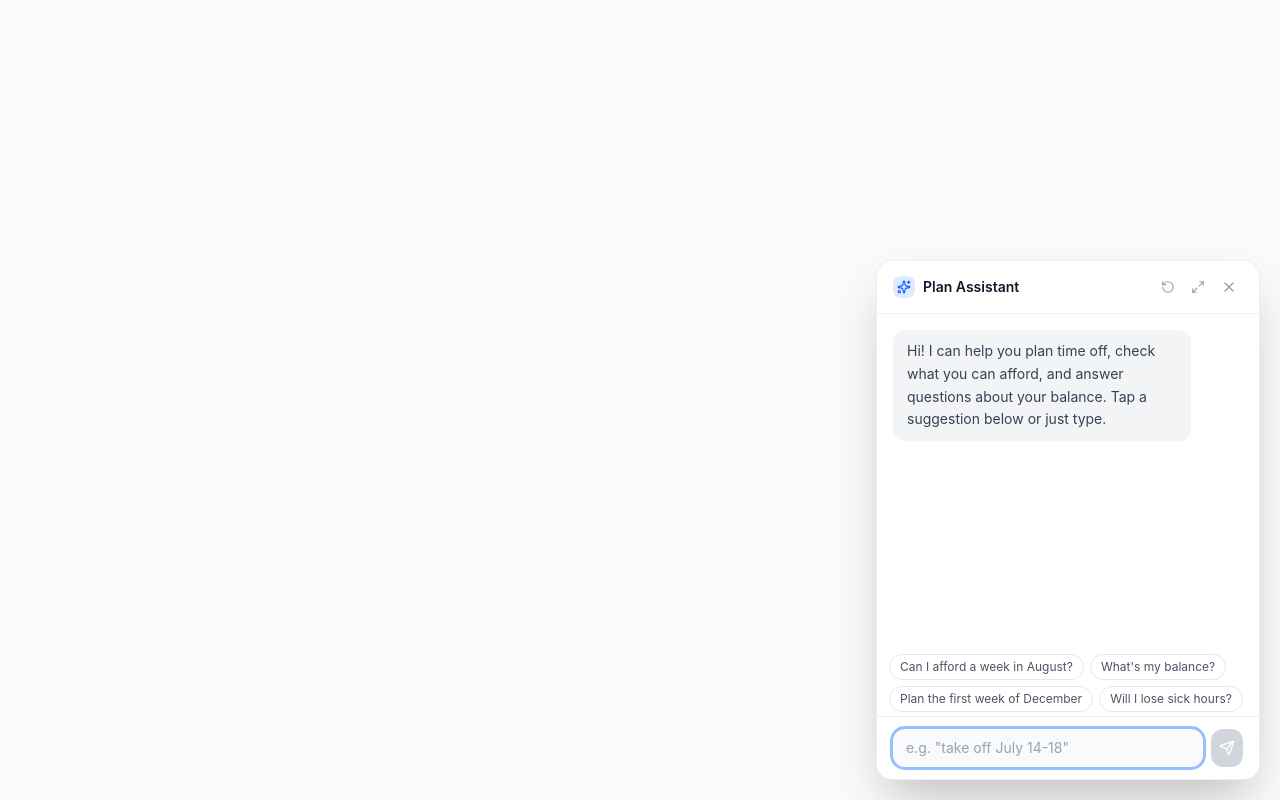
Scenario: ChatAssistant interrupted and repeated flows › keeps new balance and today questions independent of the previous date range
Type "plan tomorrow" into the field.
click(1048, 748); type("plan tomorrow")  # box [893,729,1203,767]
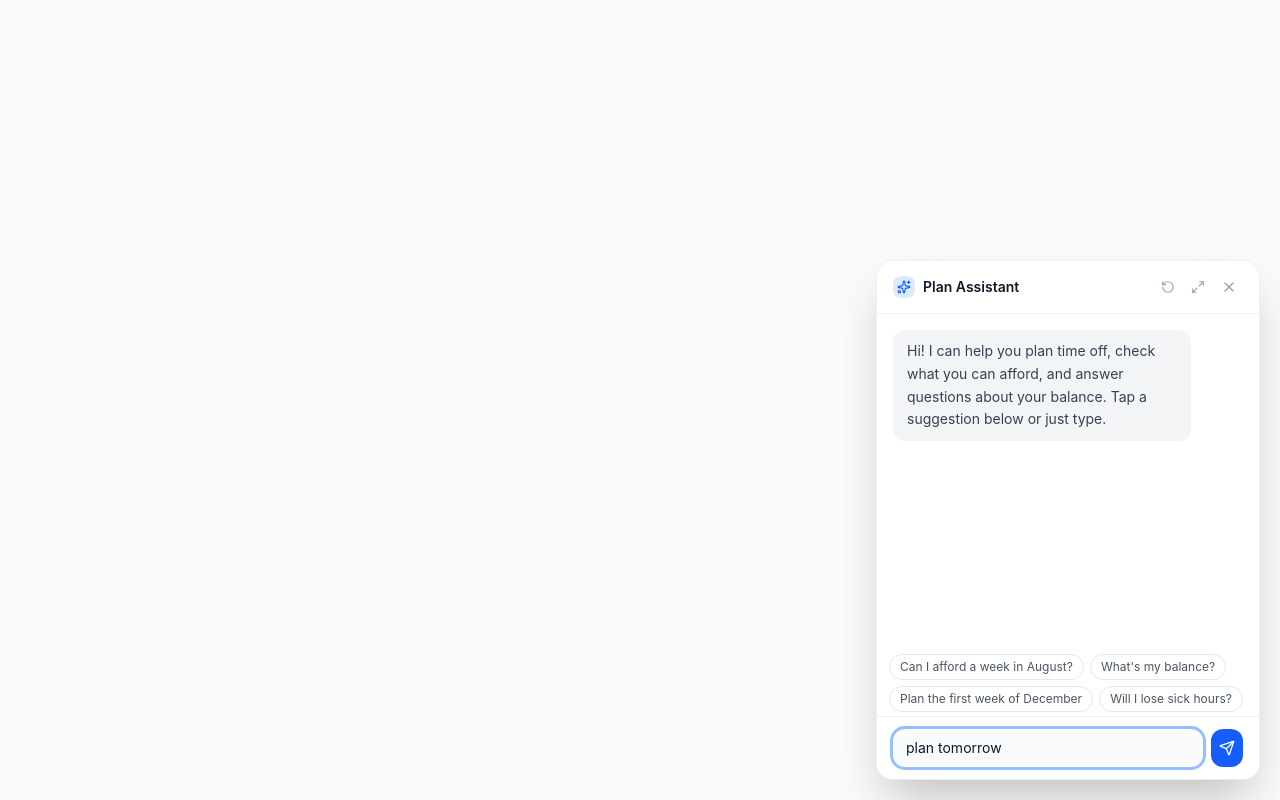
Click the button named "Send message".
click(1227, 748)  # box [1211,729,1243,767]
Wait 500 ms
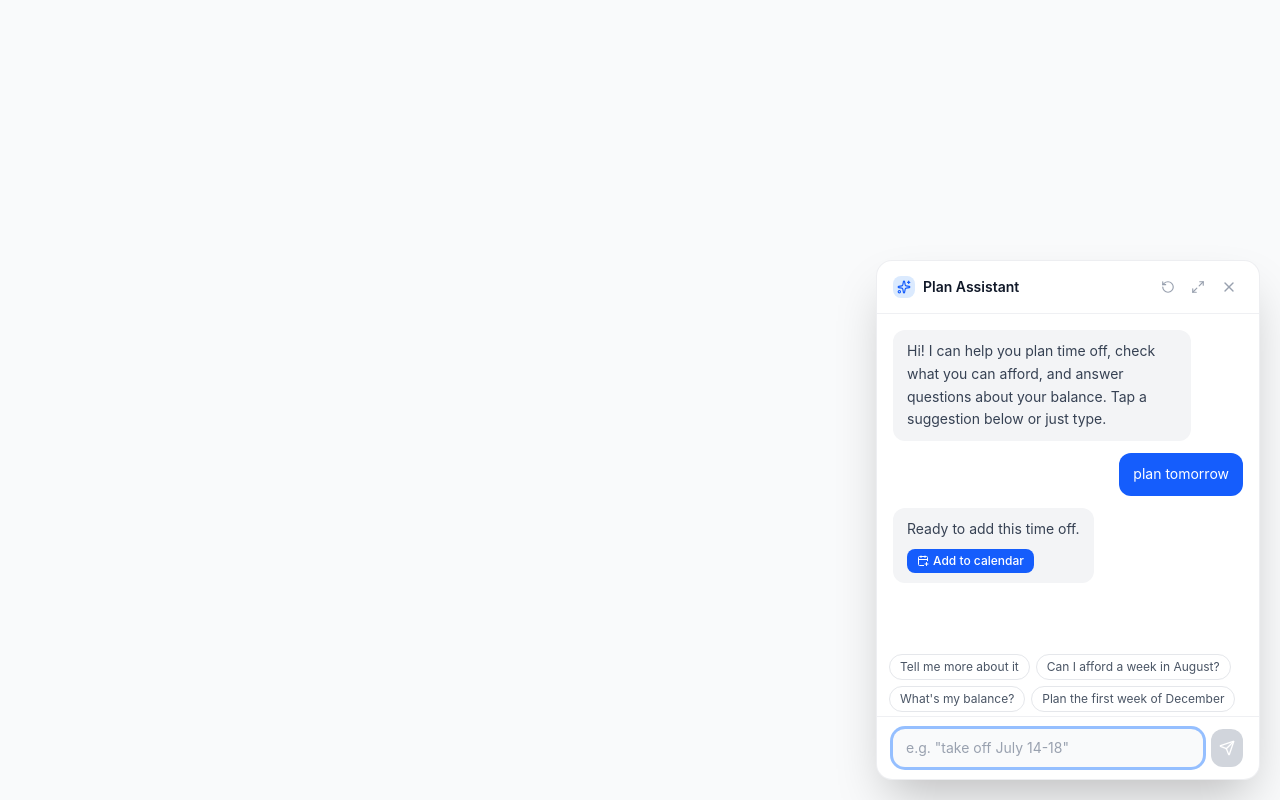
Type "How many hours do I have?" into the field.
click(1048, 748); type("How many hours do I have?")  # box [893,729,1203,767]
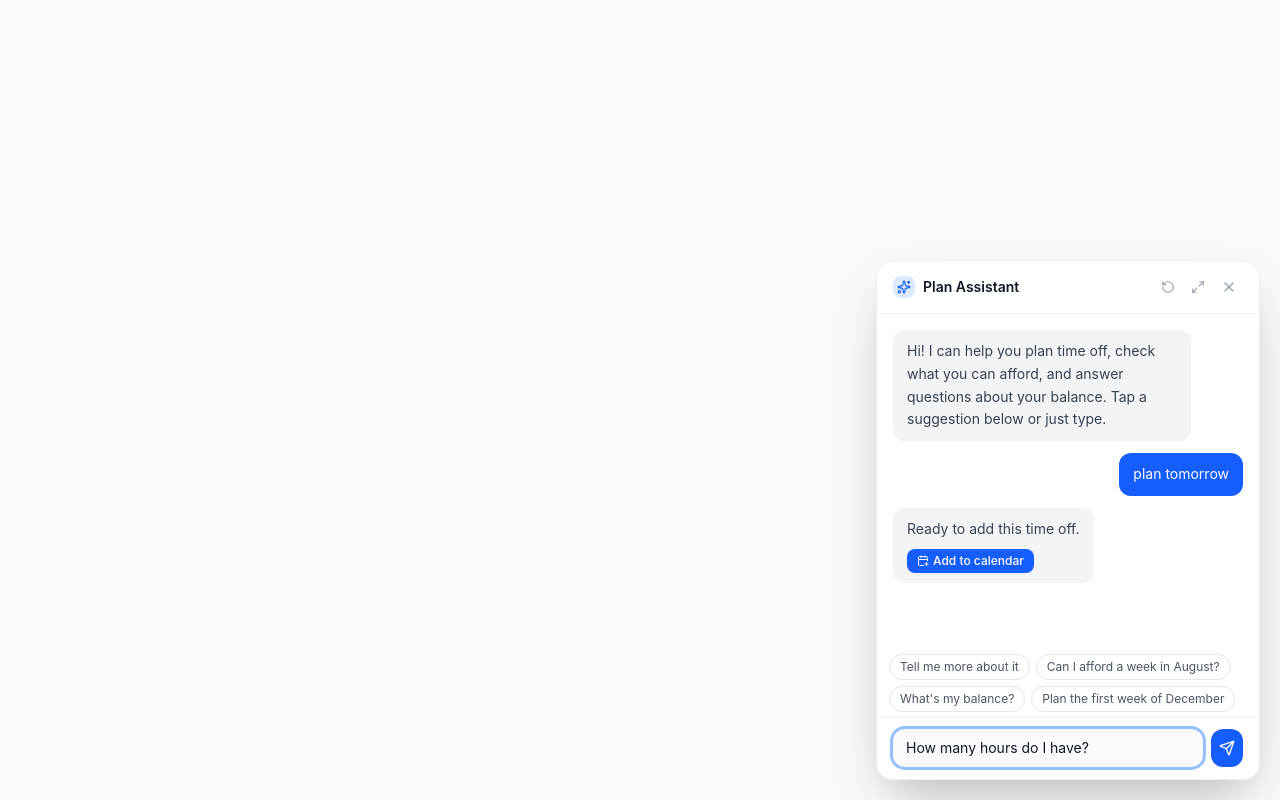
Click the button named "Send message".
click(1227, 748)  # box [1211,729,1243,767]
Wait 500 ms
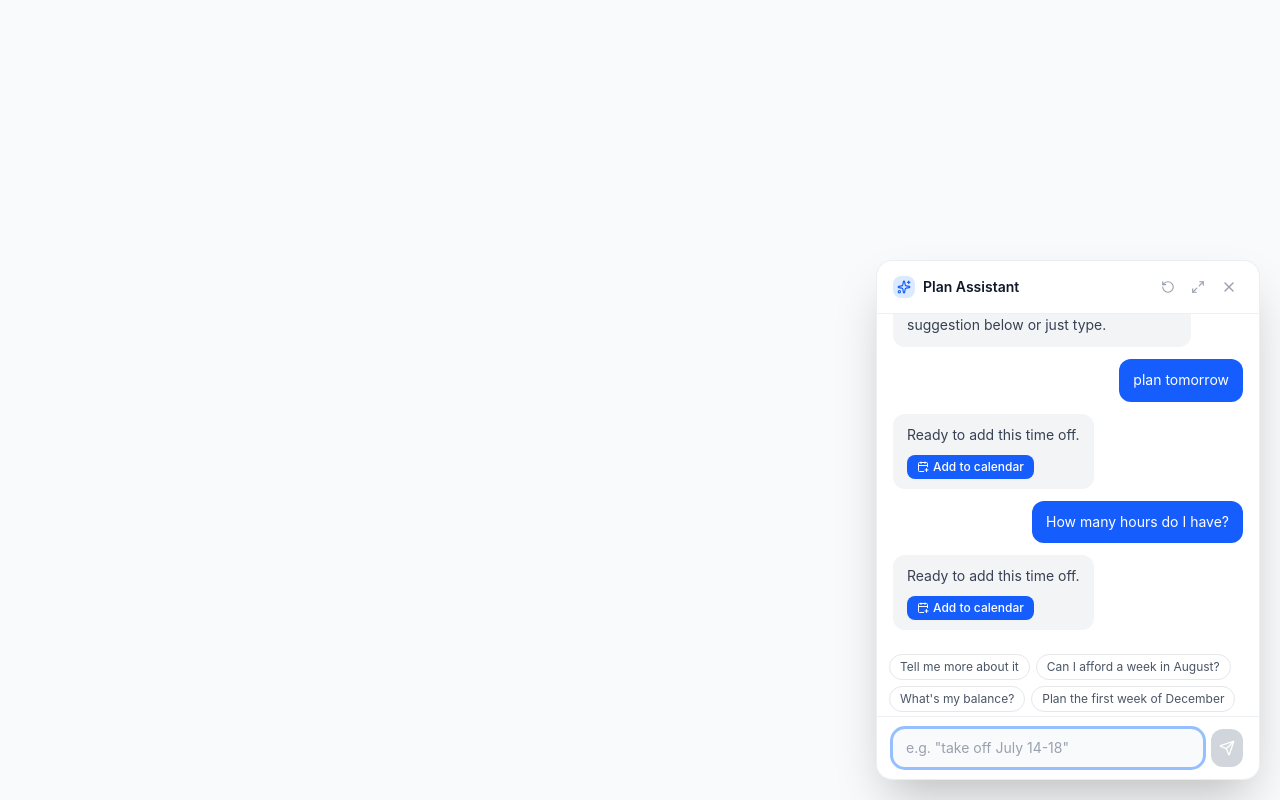
Check: the text "How many hours do I have?" is shown, box [1046,512,1229,530]
Type "How about today?" into the field.
click(1048, 748); type("How about today?")  # box [893,729,1203,767]
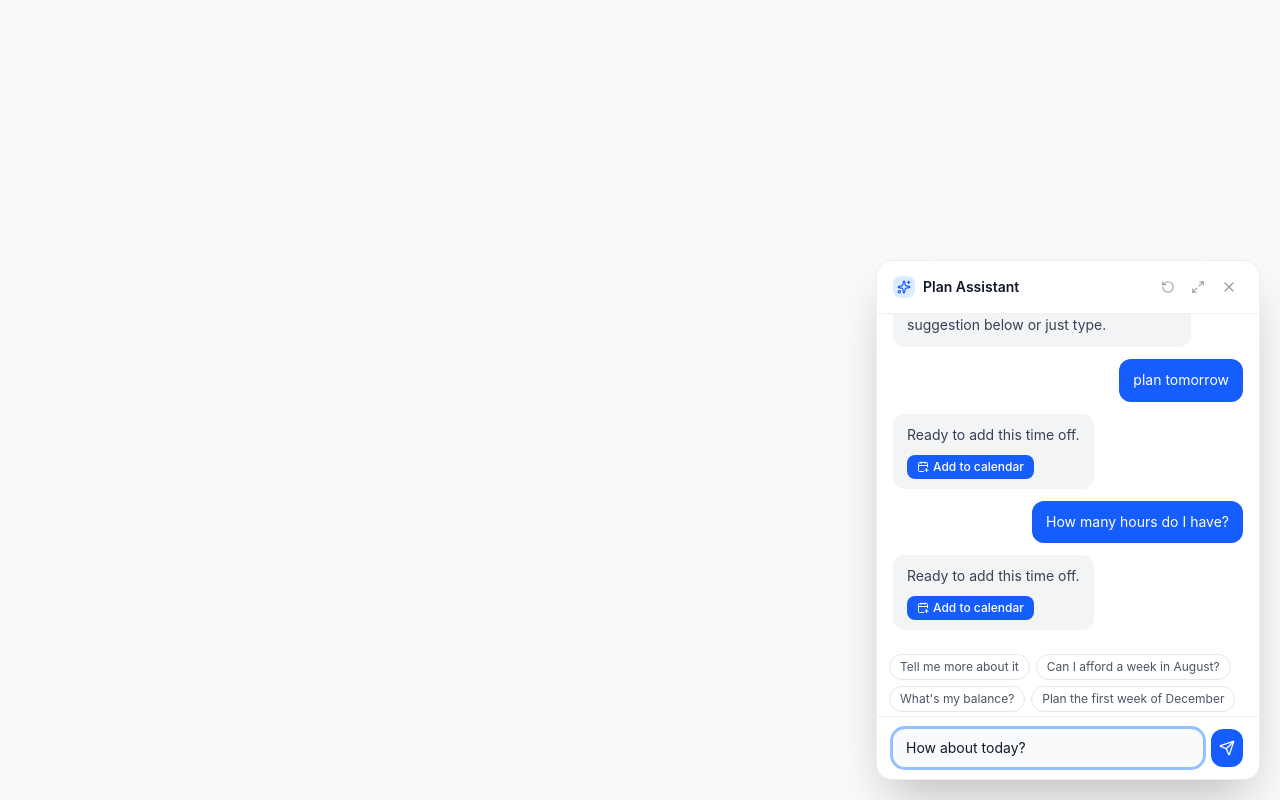
Click the button named "Send message".
click(1227, 748)  # box [1211,729,1243,767]
Wait 500 ms
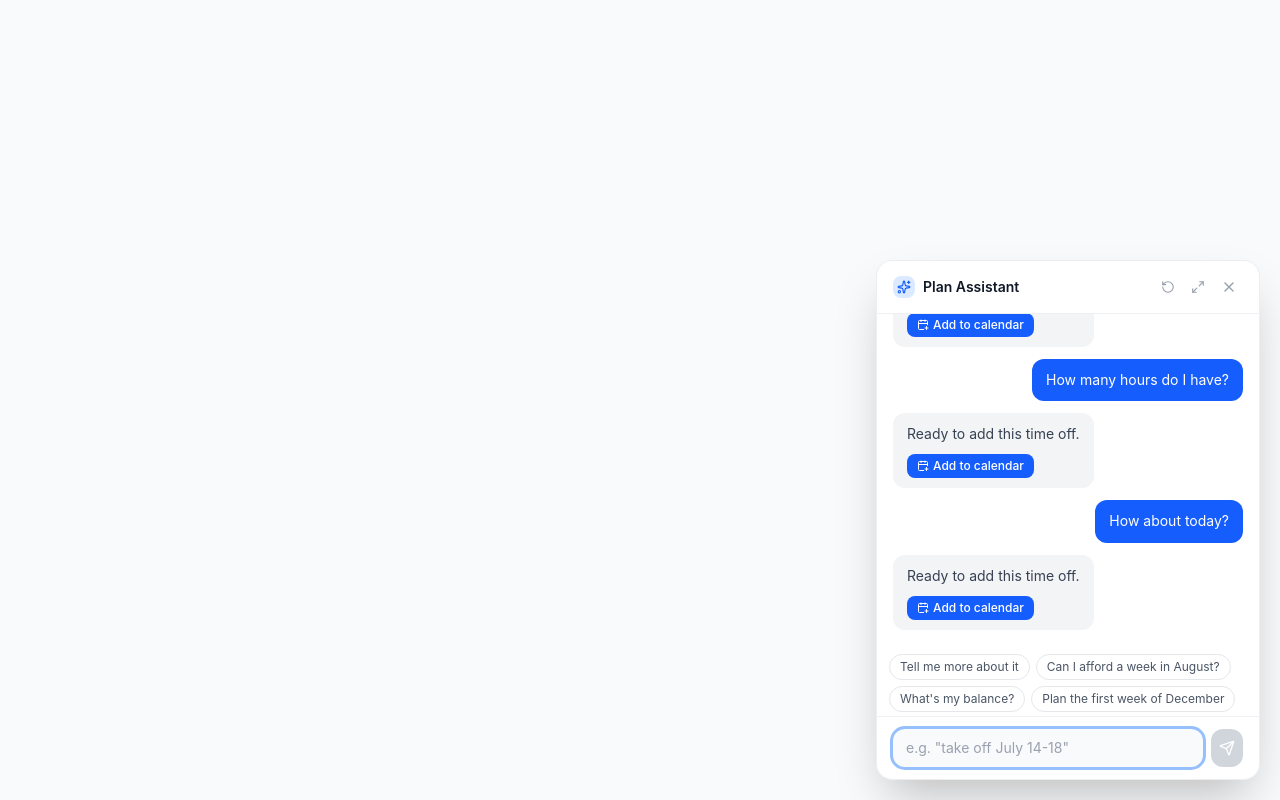
Check: the text "How about today?" is shown, box [1109,512,1229,529]
